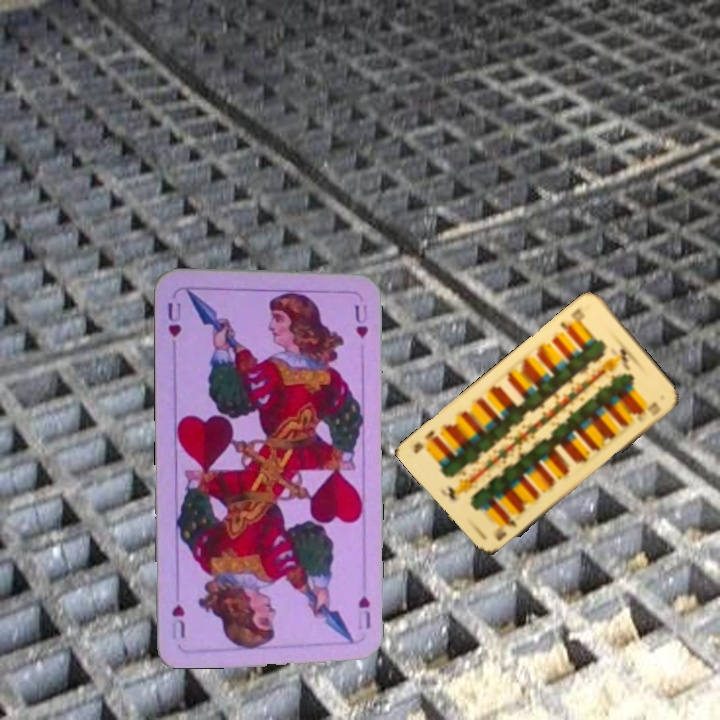E10: (490, 513, 520, 543), (556, 304, 583, 334)
HU: (164, 299, 184, 340), (354, 591, 373, 631)
